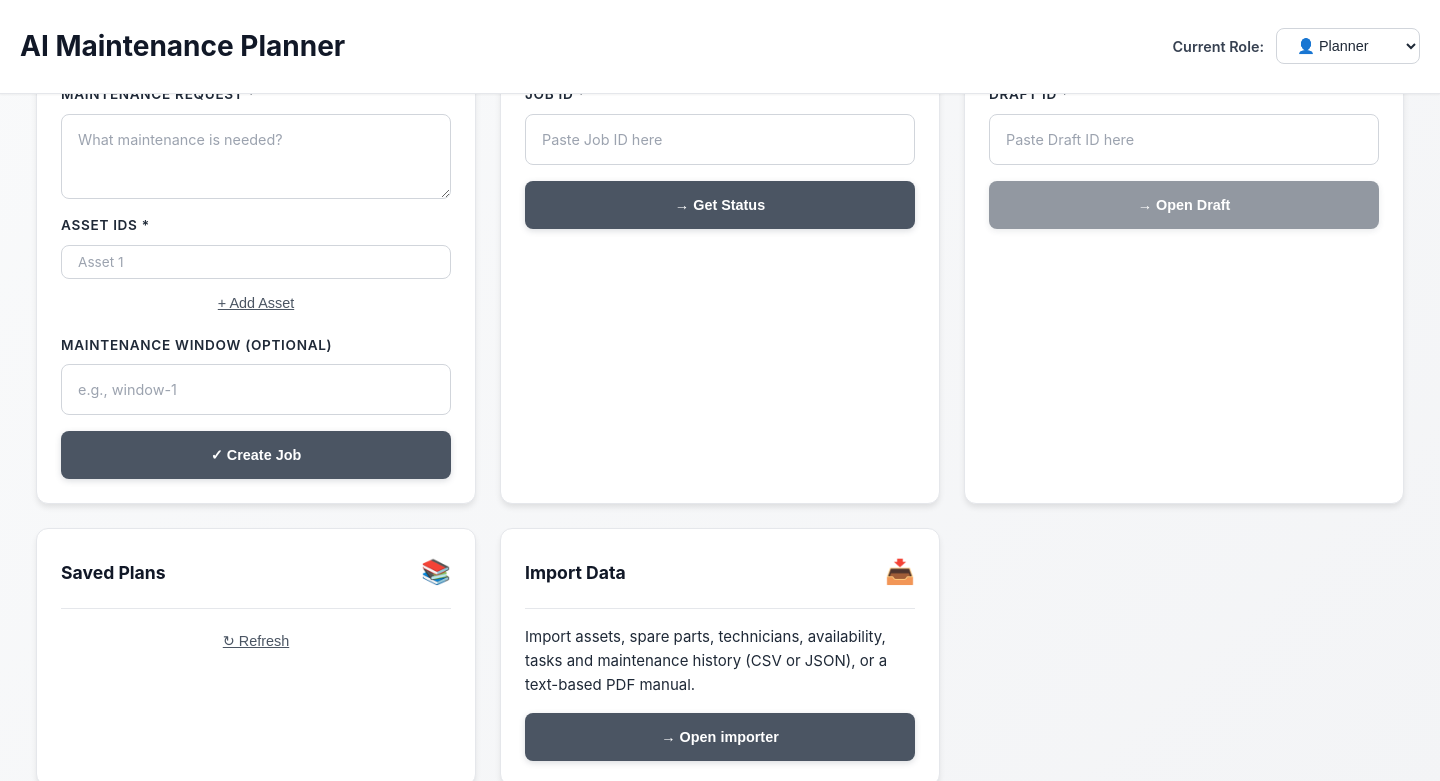
Test: App saved plans and actor role › opens the importer from the dashboard and returns to the dashboard
(page scrolled)
Click the button "→ Open importer" at (720, 737), box [525,713,915,761]
(page scrolled)
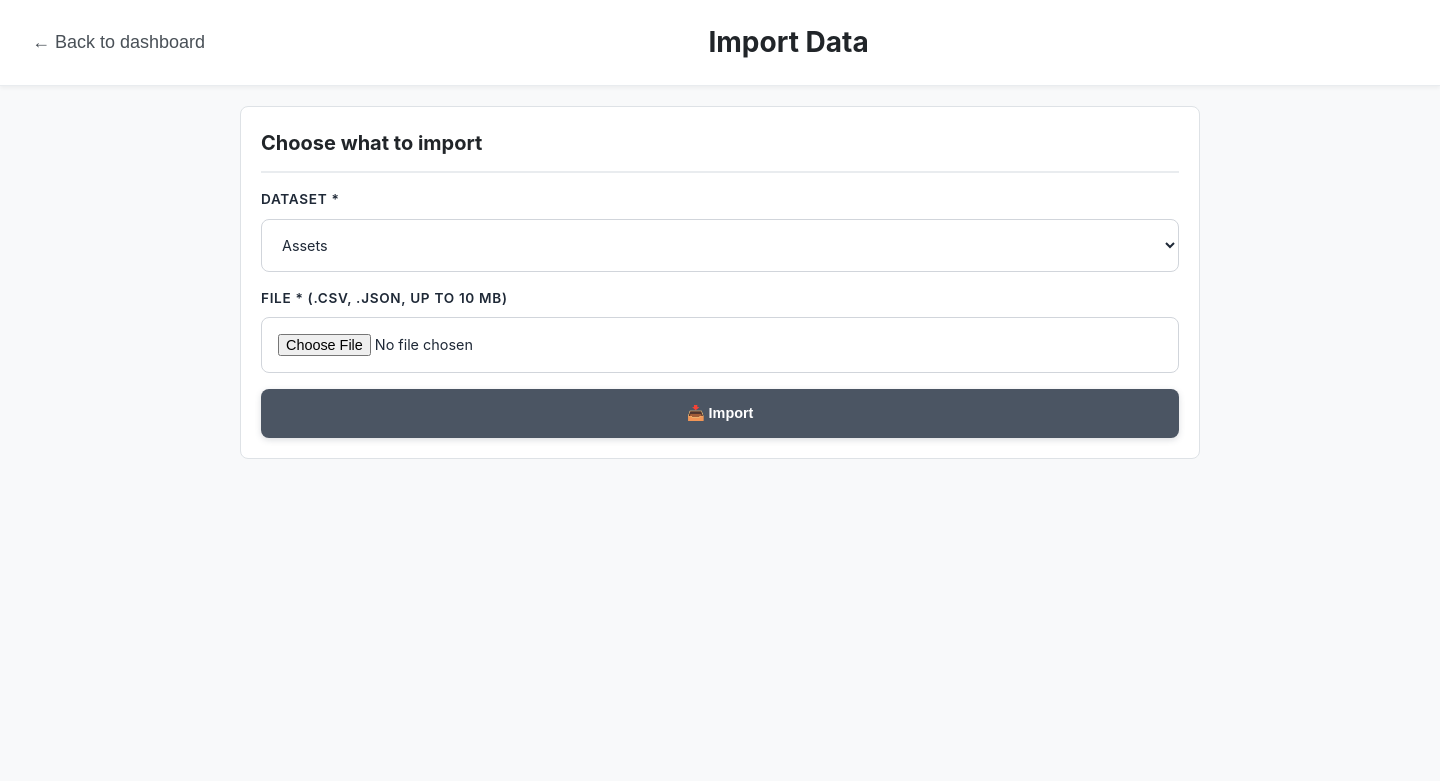
Expected: the heading "Import Data" is shown, [708,25,869,59]
Expected: the dropdown labelled "Dataset *" shows "Assets", [261,218,1179,272]
Click the button "← Back to dashboard" at (119, 42), box [20,24,217,61]
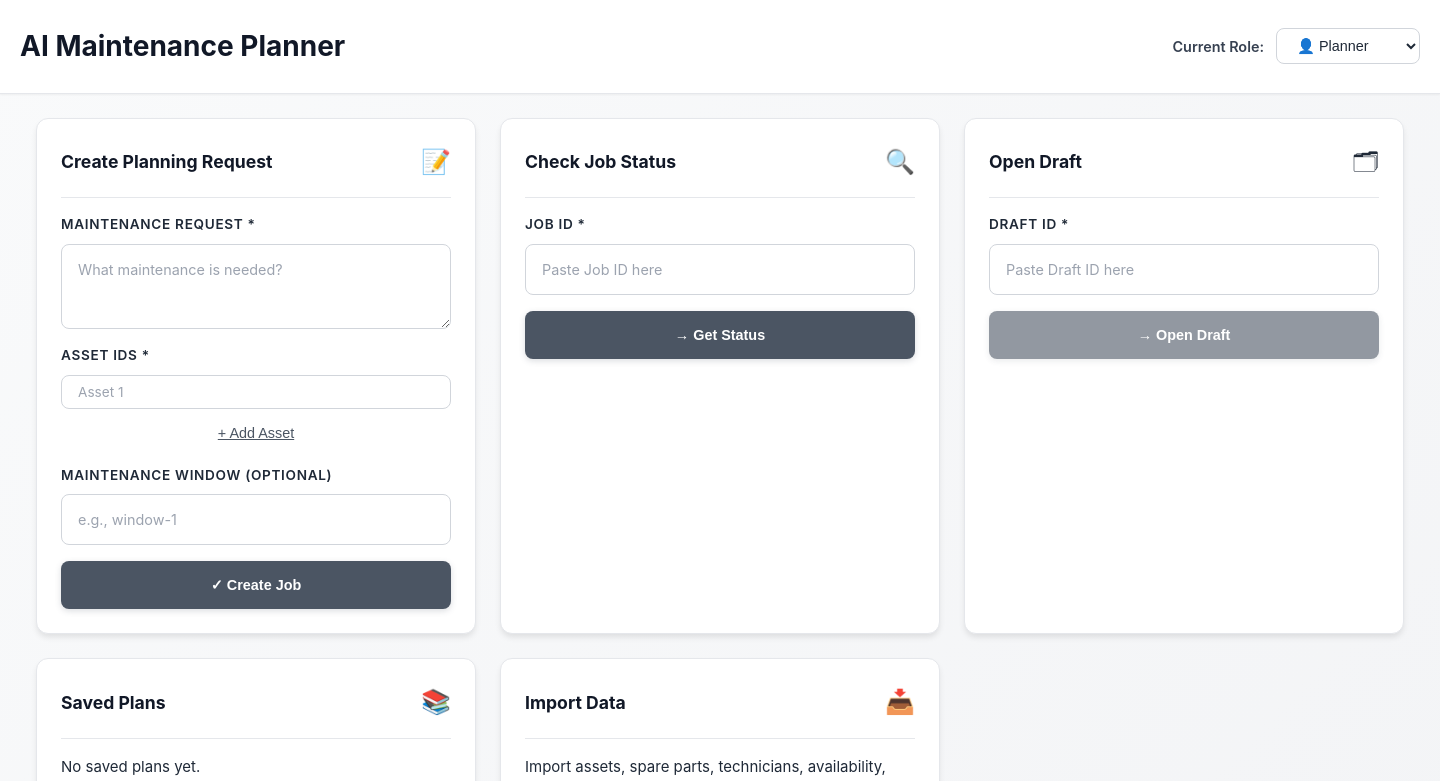
Expected: the heading "Saved Plans" is shown, [61,689,166,717]
